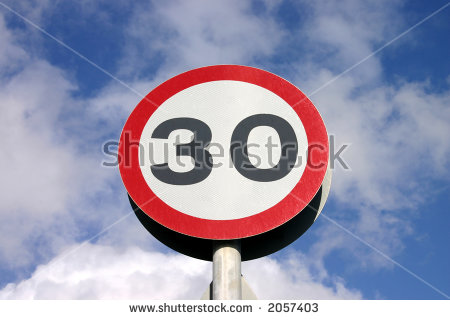Speed_limit_30km: (120, 66, 330, 238)
